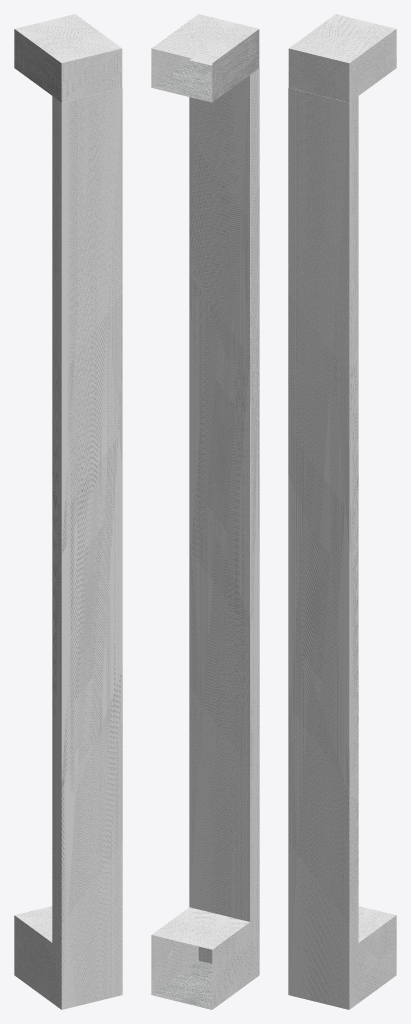
The picture shows the model from 3 angles, left to right: view 1: azimuth 30°, elevation 25°; view 2: azimuth 150°, elevation 25°; view 3: azimuth 330°, elevation 25°; orthographic projection.
Bounding box in the file's own units: 0.0632 × 0.9399 × 0.085.
